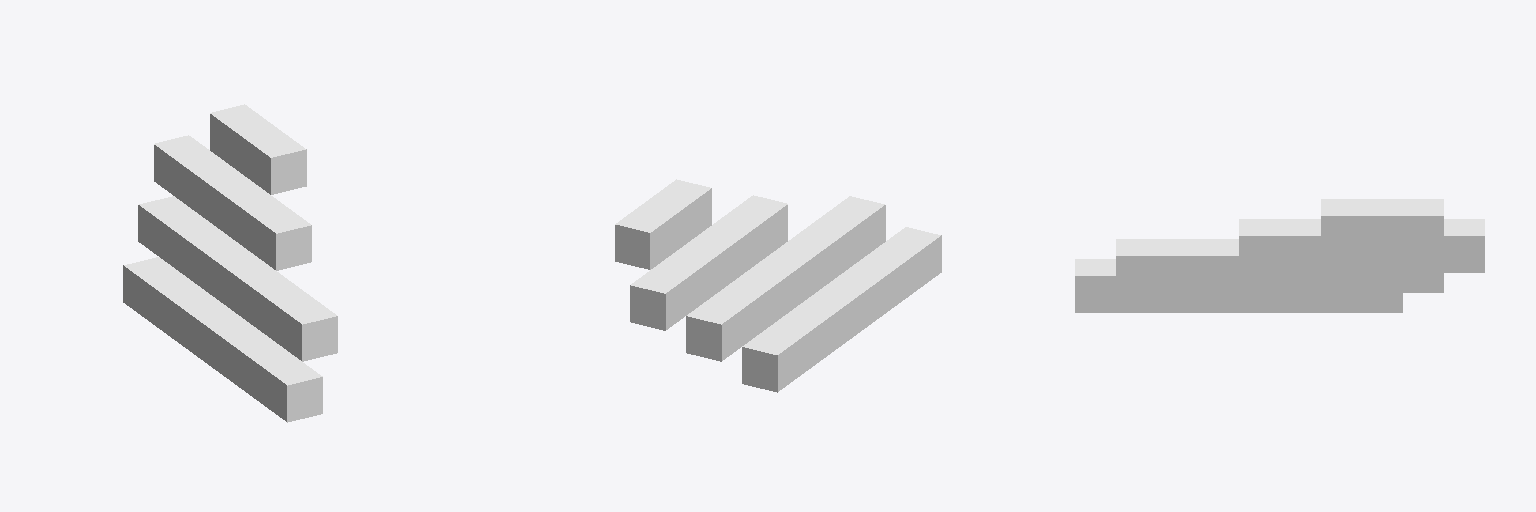
Rendered from YellowHouseParts-102.obj.
3 renders of one model, left to right at view 1: azimuth 30°, elevation 25°; view 2: azimuth 150°, elevation 25°; view 3: azimuth 270°, elevation 25°, orthographic.
Visible parts, largest first — view 1: object 1; view 2: object 1; view 3: object 1.
Boxes of the visible parts, x1=… form: object 1: x1=123, y1=104, x2=337, y2=422; object 1: x1=615, y1=179, x2=941, y2=392; object 1: x1=1075, y1=199, x2=1484, y2=312.
Size of the model in its own units: 0.4 by 0.4 by 1.